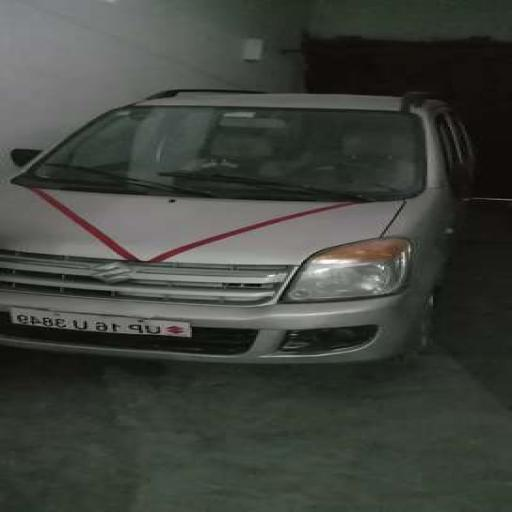License: (3, 305, 197, 339)
